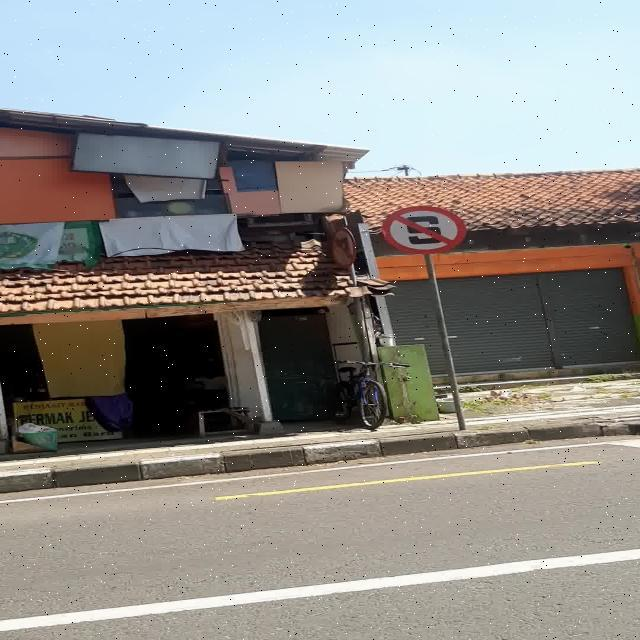Dilarang Berhenti: (382, 206, 466, 253)
